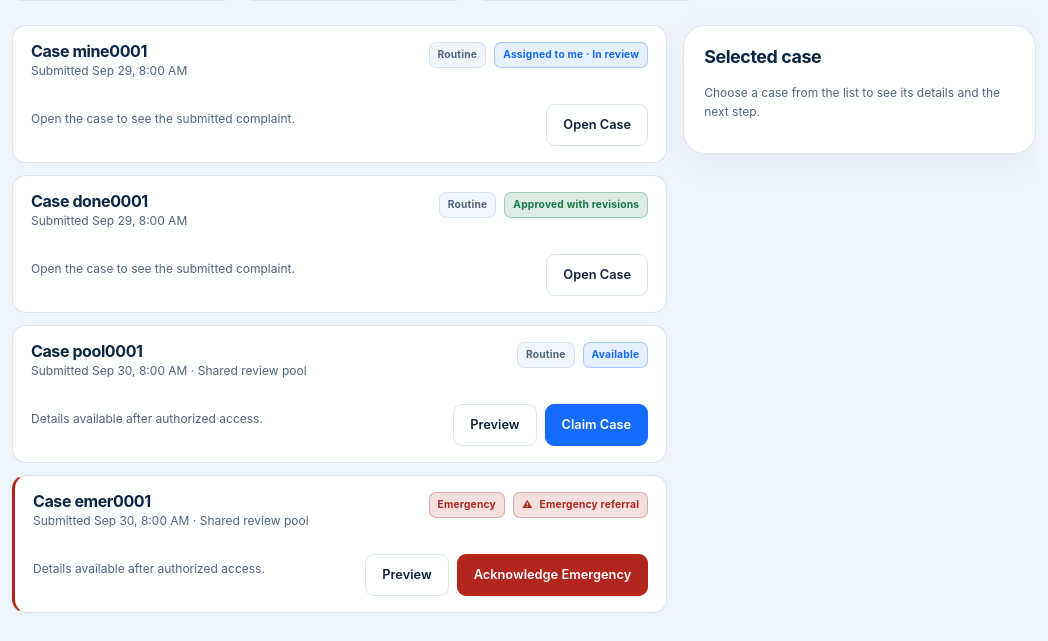
Test case: CasesPage › gives safe conflict feedback when another doctor claims first
This screenshot has width=1048, height=641.
(page scrolled)
Click the button with aria-label "Claim Case pool0001" at (596, 425), box x1=545 y1=404 x2=648 y2=446
(page scrolled)
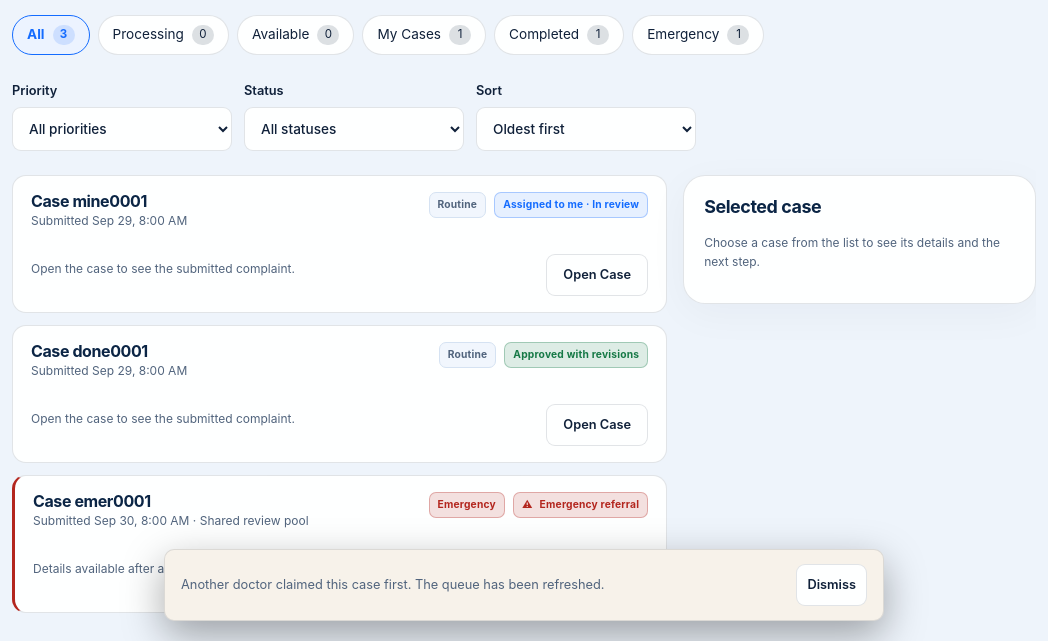
Now the text "Another doctor claimed this case first" is shown, box x1=181 y1=577 x2=605 y2=592
Now the heading "Case pool0001" is gone
